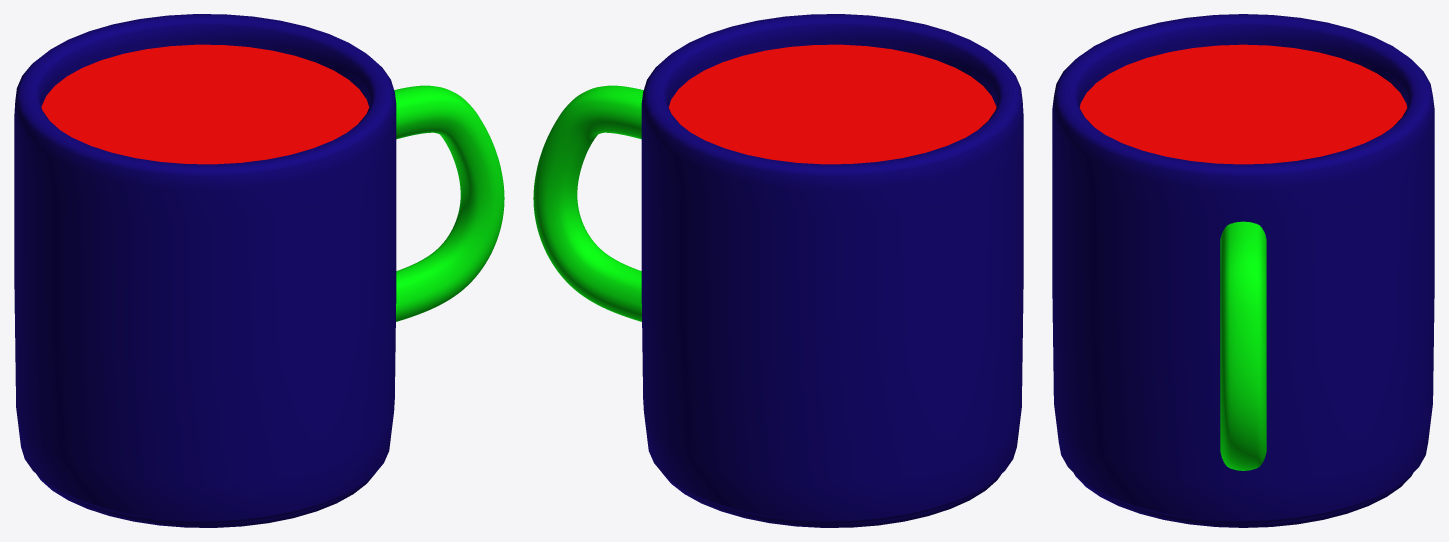
The model's file is mug.fbx.
3 renders of one model, left to right at view 1: azimuth 30°, elevation 25°; view 2: azimuth 150°, elevation 25°; view 3: azimuth 270°, elevation 25°, orthographic.
Parts seen in each view (by area): view 1: pCylinder1, pCylinder2, pCube1; view 2: pCylinder1, pCylinder2, pCube1; view 3: pCylinder1, pCylinder2, pCube1.
Boxes of the visible parts, x1,y1,x2,y2 form: pCylinder1: [14, 14, 396, 527]; pCylinder2: [41, 44, 369, 164]; pCube1: [394, 85, 504, 321]; pCylinder1: [641, 14, 1023, 527]; pCylinder2: [668, 44, 996, 164]; pCube1: [533, 85, 643, 321]; pCylinder1: [1052, 14, 1434, 527]; pCylinder2: [1080, 44, 1406, 164]; pCube1: [1220, 221, 1266, 470].
Bounding box in the file's own units: 2.74 × 2.07 × 1.98.
